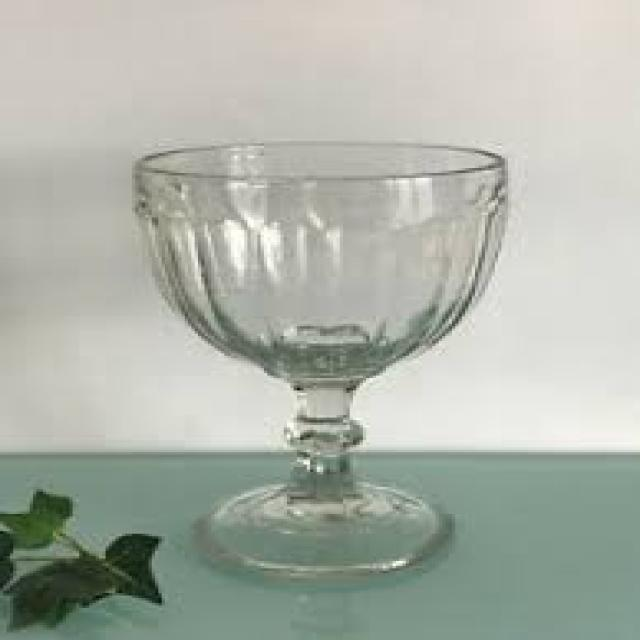glass: (132, 141, 505, 573)
